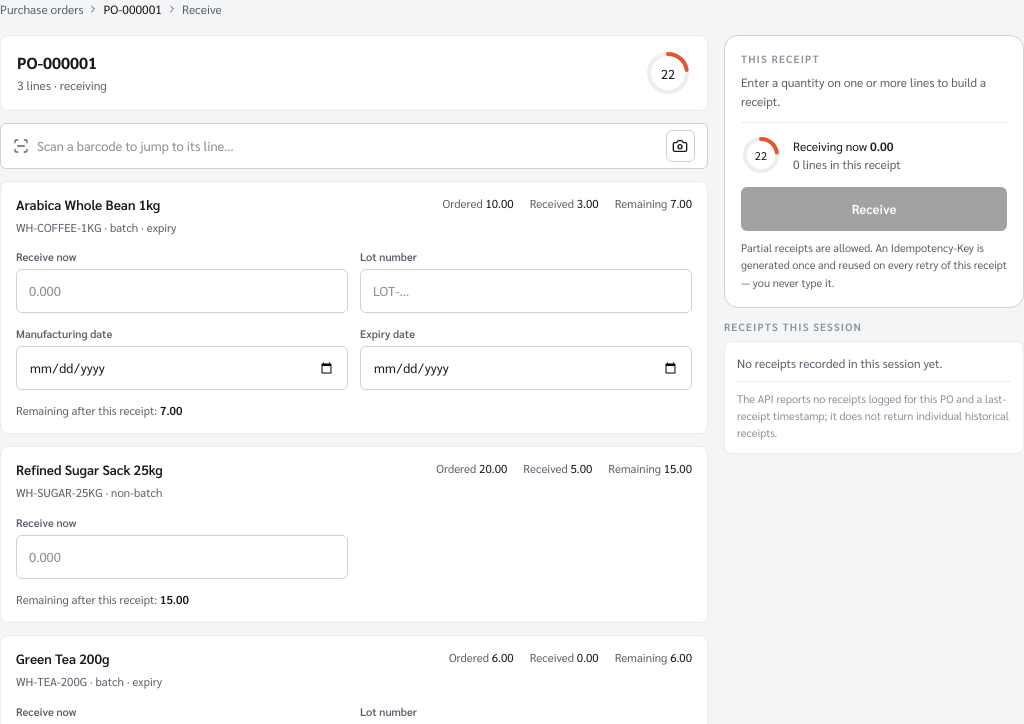
Test: ReceivingConsole — line rendering + guards › blocks a quantity above the line's remaining (client guard, backend still authoritative)
In the field labelled "Receive now" below "WH-SUGAR-25KG": point(182, 557) 16,535 -> 348,579, type "99"
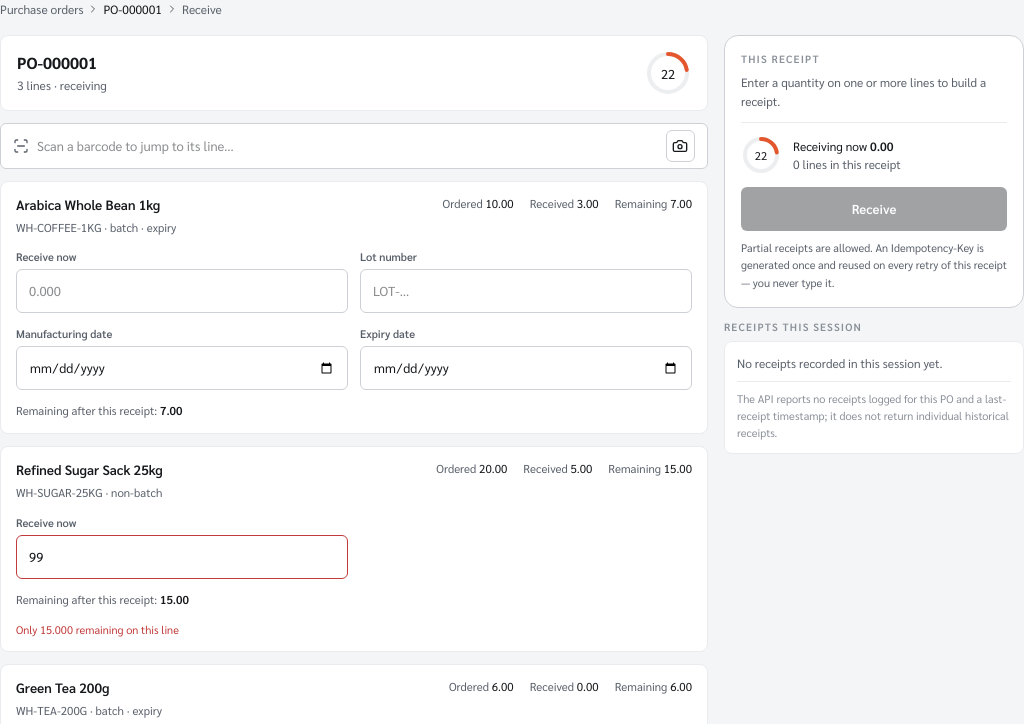
Expected: the button "Receive" is disabled, 741,187 -> 1007,231
Result: the text "Only 15.000 remaining on this line" is shown at 16,622 -> 179,637
